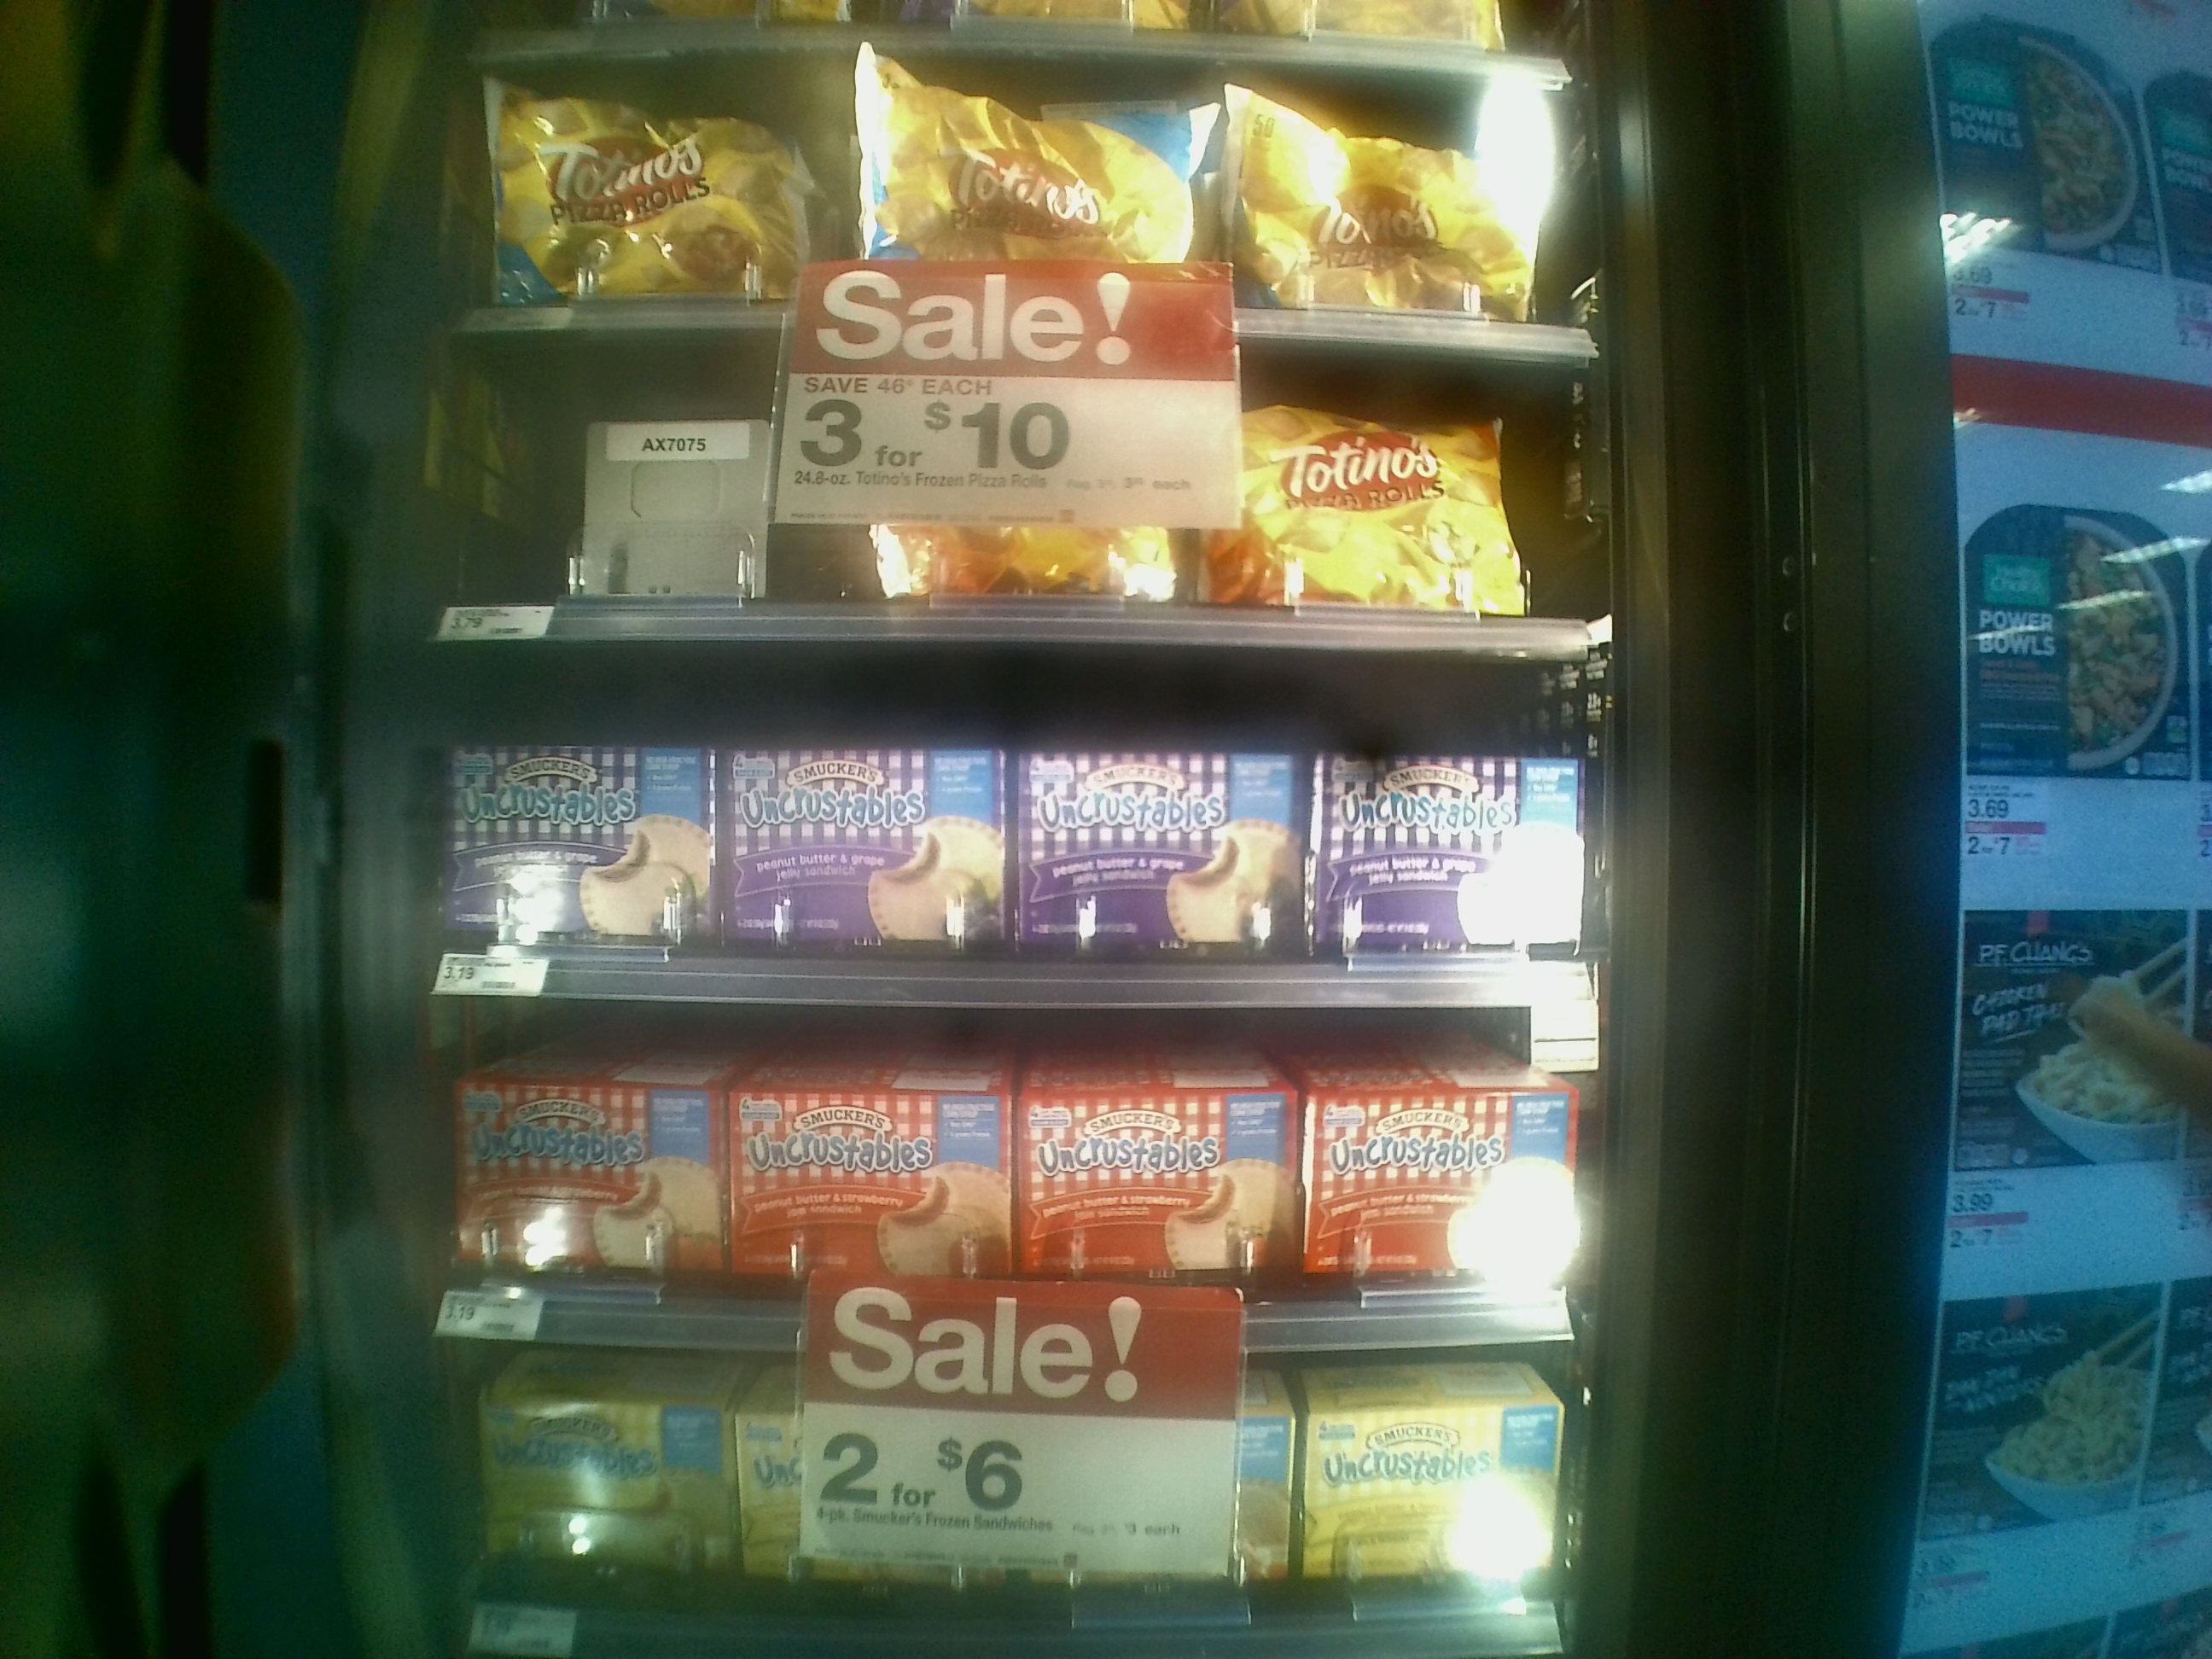shelf: (402, 640, 1615, 1012), (420, 321, 1620, 666), (397, 1007, 1594, 1352)
